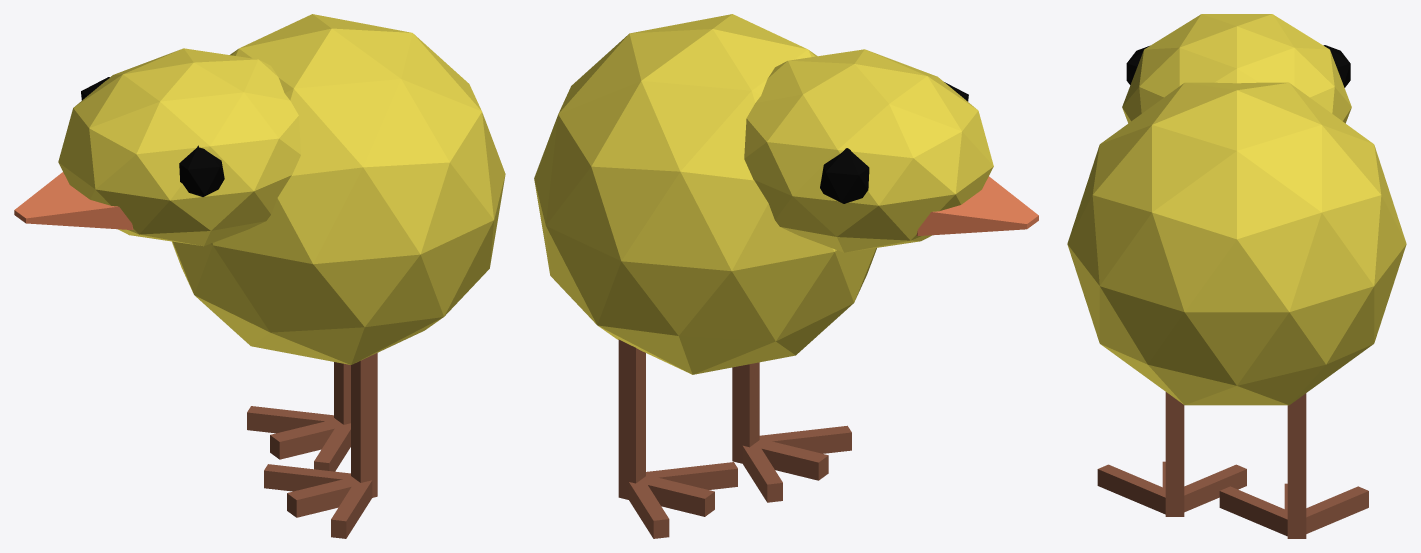
File: Pollito.fbx
3 views of the same model, side by side, from view 1: azimuth 30°, elevation 25°; view 2: azimuth 150°, elevation 25°; view 3: azimuth 270°, elevation 25° (orthographic). The views are drawn at different scales.
Visible parts, largest first — view 1: Pollito; view 2: Pollito; view 3: Pollito.
Part boxes in pixels (x1,y1,x2,y2): Pollito: [14, 14, 505, 538]; Pollito: [534, 14, 1038, 538]; Pollito: [1067, 14, 1406, 538].
Size of the model in its own units: 469 by 433 by 315.
